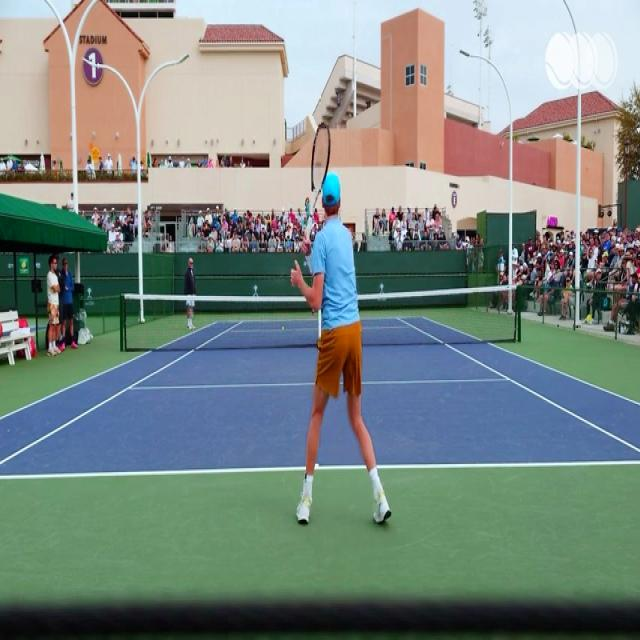forehand-finish: (287, 128, 387, 552)
